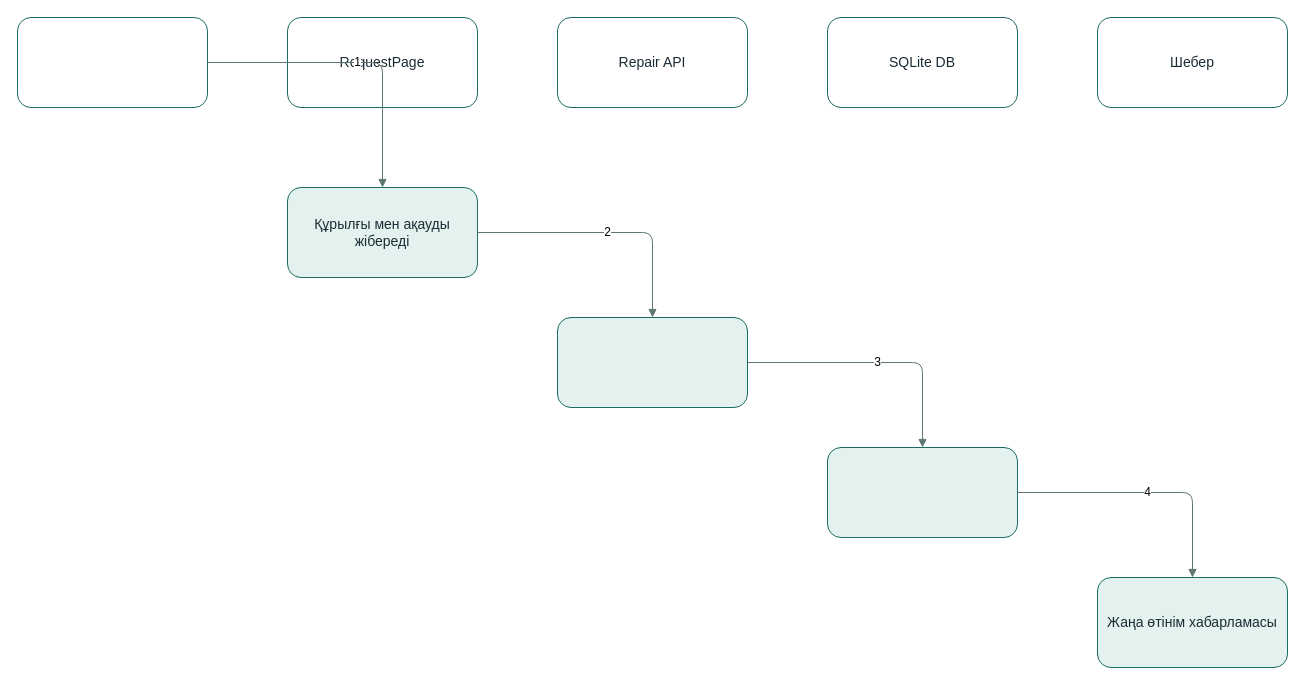
The diagram is 1305 pixels wide and 685 high, and some of its shapes have lost their labels. Each missing label, with the centre of its shape:
"Деректерді тексереді" goes at point (652, 362).
"Клиент" goes at point (112, 62).
"Өтінімді сақтайды" goes at point (922, 492).
